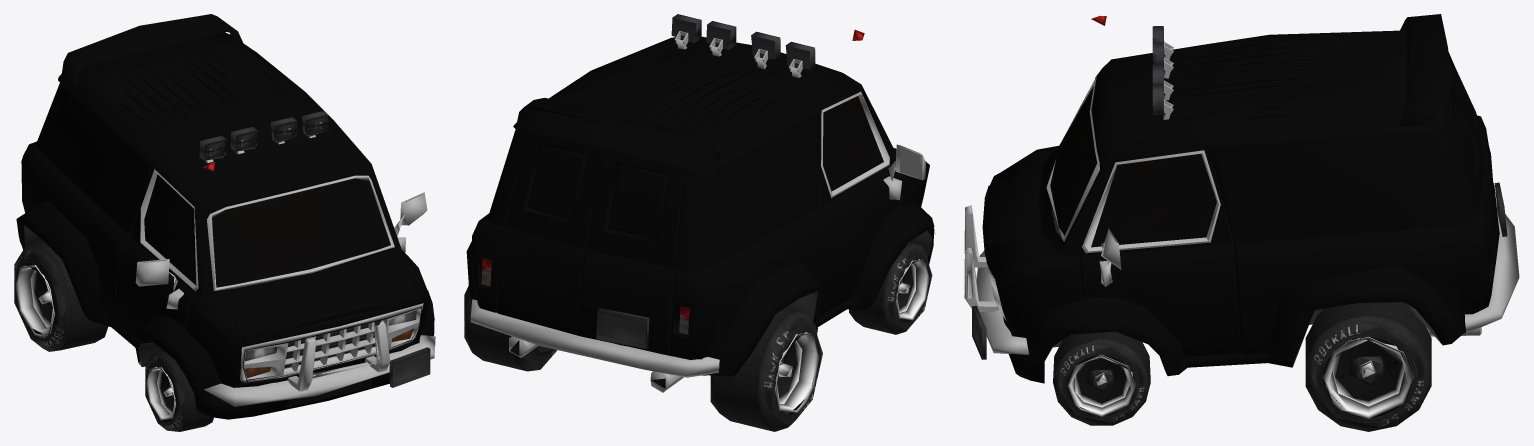
Rendered from rccar.glb.
The picture shows the model from 3 angles, left to right: view 1: azimuth 30°, elevation 25°; view 2: azimuth 150°, elevation 25°; view 3: azimuth 270°, elevation 25°; orthographic projection. The views are drawn at different scales.
Parts seen in each view (by area): view 1: RCSHVAN_Body_RCSHVAN_Bodymat_0, RCSHVAN_Bumper_Front_UCB_BOTTOM_0, RCSHVAN_WheelStock_FL_RB0a_Tire_0, RCSHVAN_Reverse_UCB_Lights_and_Glass_0; view 2: RCSHVAN_Body_RCSHVAN_Bodymat_0, RCSHVAN_Bumper_Front_UCB_BOTTOM_0, RCSHVAN_WheelStock_FL_RB0a_Tire_0, RCSHVAN_Reverse_UCB_Lights_and_Glass_0; view 3: RCSHVAN_Body_RCSHVAN_Bodymat_0, RCSHVAN_Bumper_Front_UCB_BOTTOM_0, RCSHVAN_WheelStock_FL_RB0a_Tire_0.
Boxes of the visible parts, box(x1,y1,x2,y2) form: RCSHVAN_Body_RCSHVAN_Bodymat_0: box(16, 14, 434, 419); RCSHVAN_Bumper_Front_UCB_BOTTOM_0: box(23, 111, 435, 406); RCSHVAN_WheelStock_FL_RB0a_Tire_0: box(14, 241, 213, 431); RCSHVAN_Reverse_UCB_Lights_and_Glass_0: box(245, 310, 416, 361); RCSHVAN_Body_RCSHVAN_Bodymat_0: box(466, 36, 934, 376); RCSHVAN_Bumper_Front_UCB_BOTTOM_0: box(470, 14, 935, 392); RCSHVAN_WheelStock_FL_RB0a_Tire_0: box(464, 242, 932, 431); RCSHVAN_Reverse_UCB_Lights_and_Glass_0: box(481, 258, 689, 334); RCSHVAN_Body_RCSHVAN_Bodymat_0: box(982, 14, 1499, 383); RCSHVAN_Bumper_Front_UCB_BOTTOM_0: box(964, 15, 1519, 383); RCSHVAN_WheelStock_FL_RB0a_Tire_0: box(1053, 302, 1431, 431).
Size of the model in its own units: 0.3445 by 0.3049 by 0.4955.
4 materials, 3 textured.
